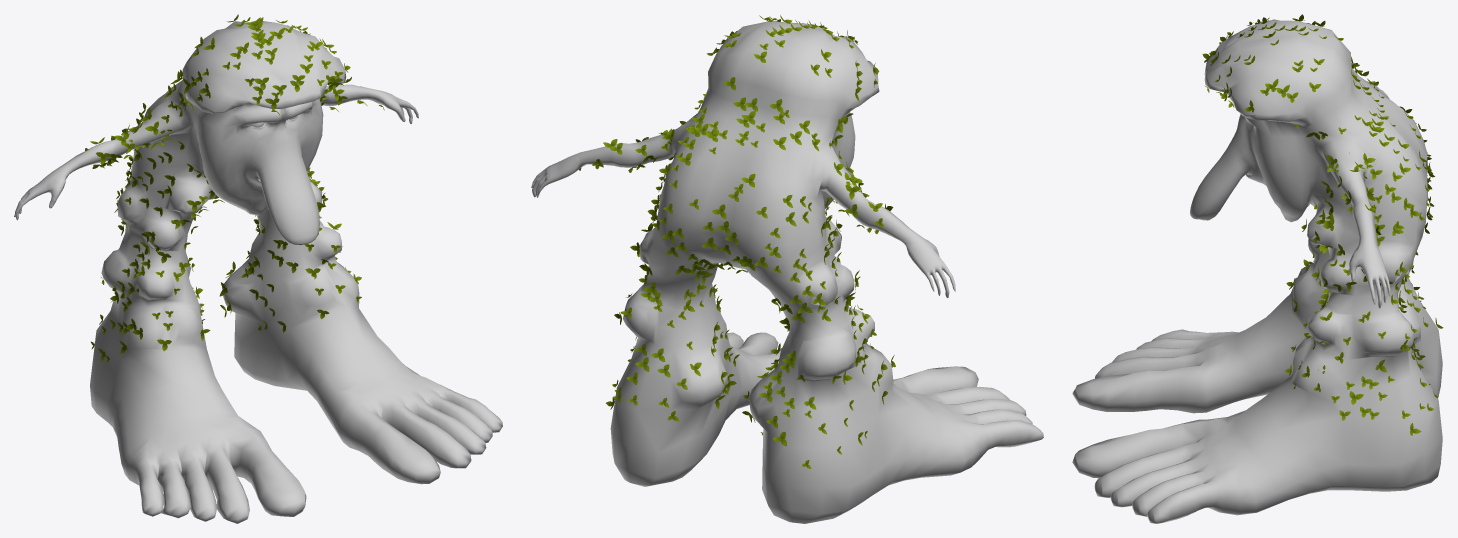
Rendered from Patapim_render.fbx.
3 views of the same model, side by side, from view 1: azimuth 30°, elevation 25°; view 2: azimuth 150°, elevation 25°; view 3: azimuth 270°, elevation 25° (orthographic). The views are drawn at different scales.
Visible parts, largest first — view 1: Body_LP, stylized bush.002; view 2: Body_LP, stylized bush.002; view 3: Body_LP, stylized bush.002.
Boxes of the visible parts, bbox=[...] form: Body_LP: bbox=[14, 20, 502, 523]; stylized bush.002: bbox=[85, 14, 384, 362]; Body_LP: bbox=[531, 21, 1043, 523]; stylized bush.002: bbox=[579, 15, 895, 468]; Body_LP: bbox=[1072, 19, 1442, 523]; stylized bush.002: bbox=[1202, 14, 1443, 435].
Bounding box in the file's own units: 106 × 102 × 81.78.
